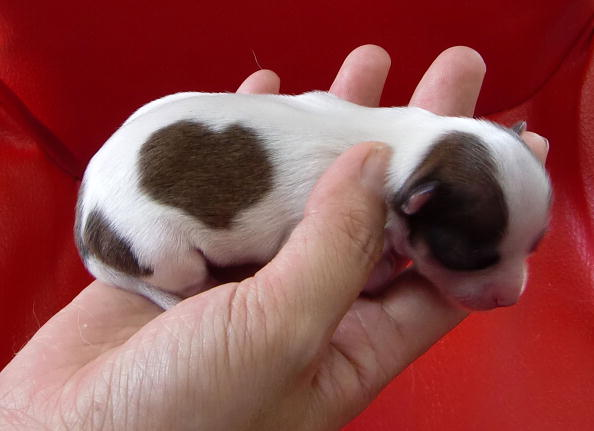dog: (55, 74, 559, 327)
